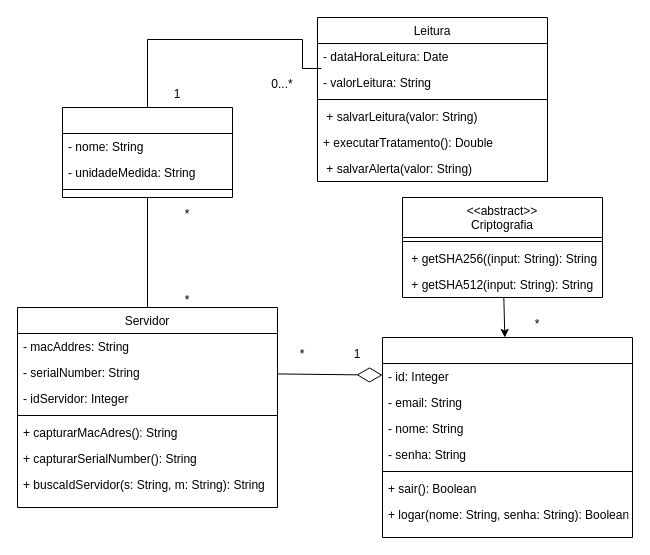
Some shapes in this 650 by 555 pixel diagram are drawn without their labels. The box of each missing label's shape, as (x1, y1, x2, y2) in pixels:
Parametro: (62, 106, 232, 198)
Usuario: (382, 336, 632, 538)
